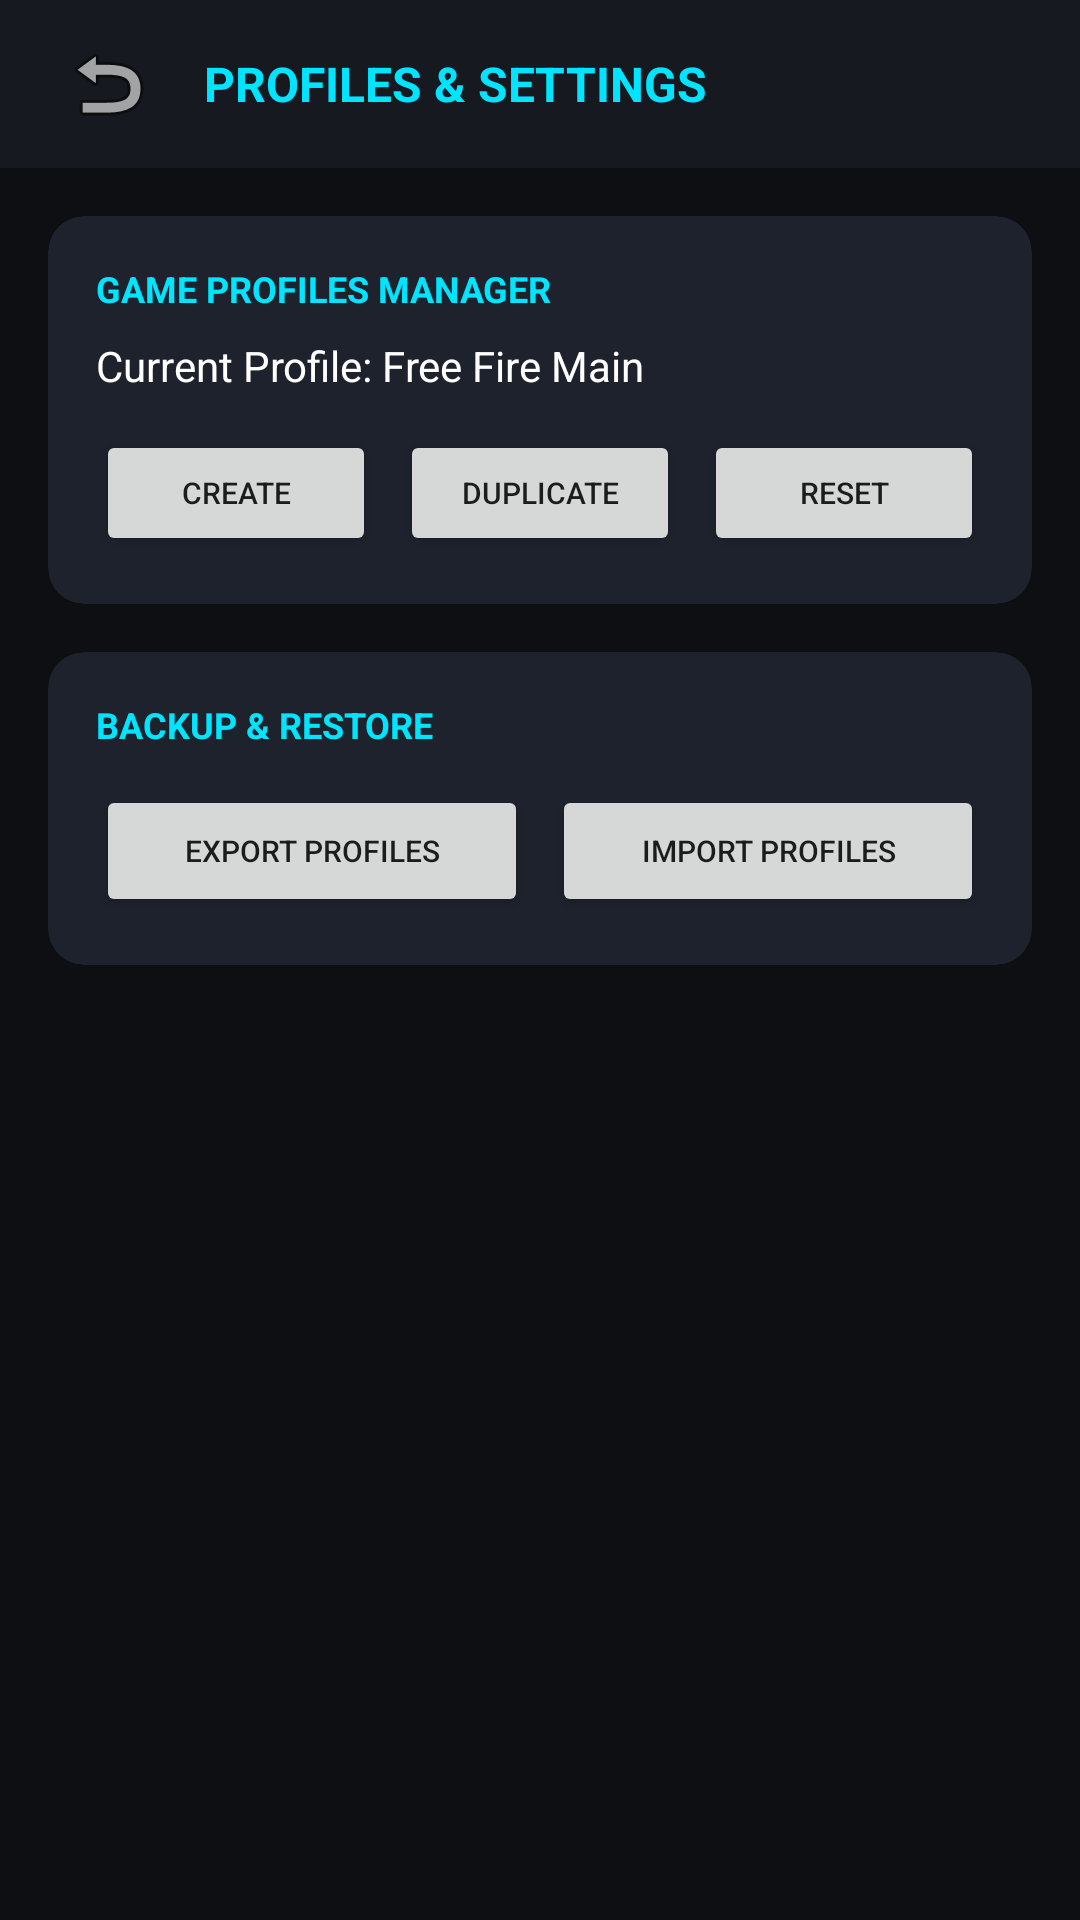

Screen size 1080×1920. Icon name, then its box in pixels as region(x1, y1, x2, y2):
Back: region(78, 56, 141, 113)
